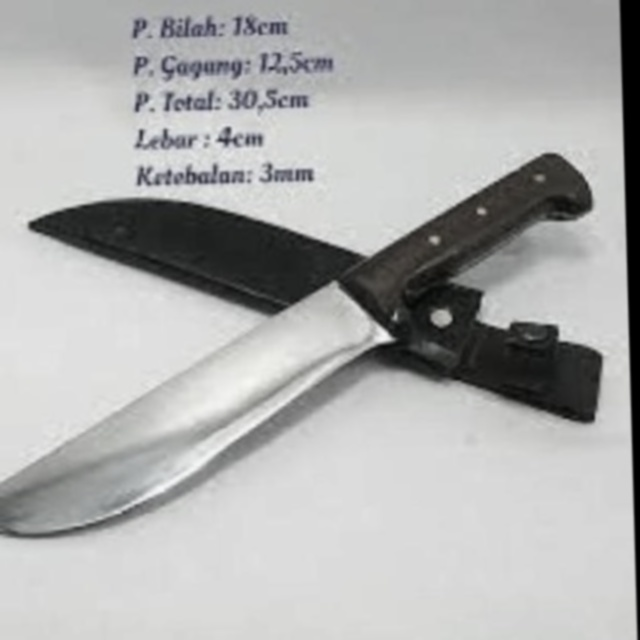Sharp-Object: (0, 155, 603, 542)
